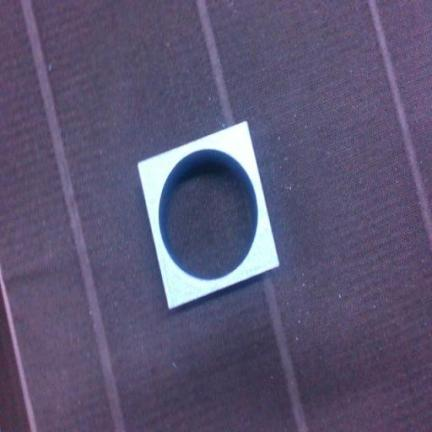square: (139, 122, 278, 308)
